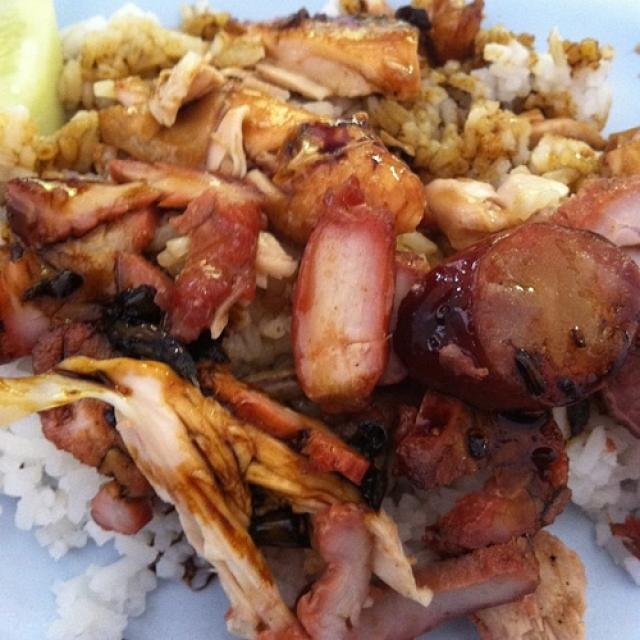猪肉菜式: (23, 32, 631, 623)
